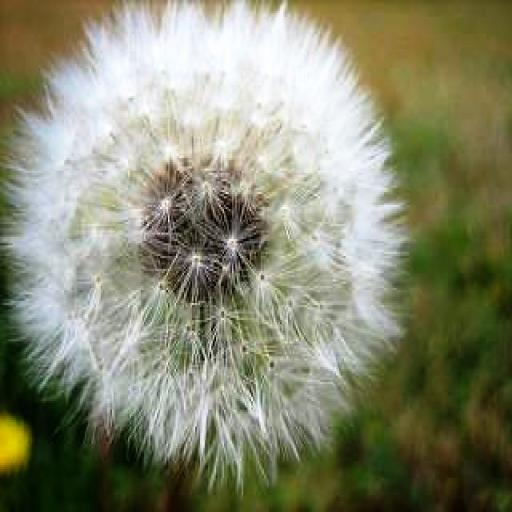dandelion: (1, 0, 408, 512)
